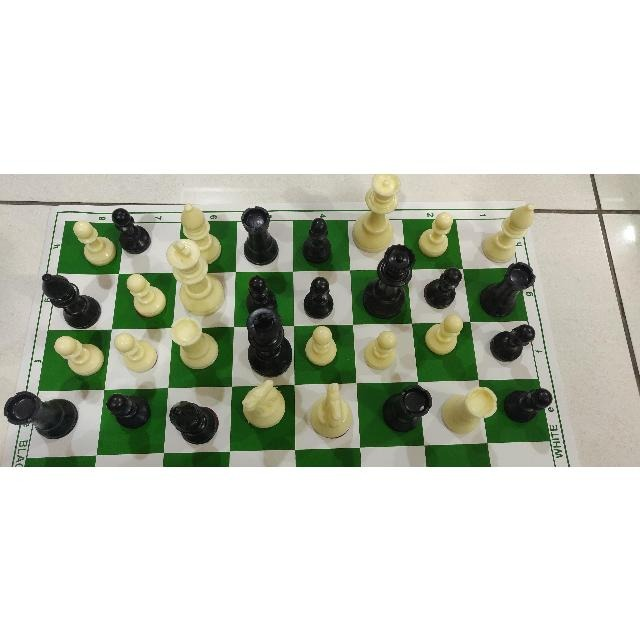black-bishop: (39, 271, 102, 328), (167, 399, 220, 445)
black-king: (246, 306, 294, 378)
black-pawn: (490, 319, 536, 363), (110, 206, 152, 254), (503, 383, 553, 423), (106, 391, 152, 430), (301, 214, 334, 266), (423, 264, 462, 308), (244, 273, 280, 315), (303, 274, 335, 318)
black-queen: (361, 241, 417, 319)
black-rook: (2, 389, 78, 439), (478, 260, 536, 316), (381, 383, 433, 433), (240, 205, 280, 265)
white-bishop: (480, 199, 535, 262), (177, 202, 223, 264)
white-king: (166, 237, 226, 317)
white-knight: (239, 375, 286, 430), (310, 379, 354, 437)
white-pawn: (52, 332, 104, 376), (69, 220, 116, 266), (123, 272, 167, 318), (113, 330, 159, 373), (424, 309, 464, 357), (419, 209, 457, 256), (363, 327, 399, 372), (304, 321, 340, 366)
white-queen: (350, 173, 401, 253)
white-rook: (440, 384, 498, 434), (169, 316, 221, 370)
